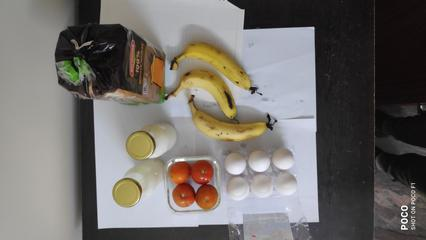banana: (177, 41, 273, 110), (189, 100, 294, 144)
bread: (55, 27, 169, 110)
eggs: (228, 149, 302, 195)
milk: (106, 171, 158, 208), (126, 130, 189, 158)
tomato: (167, 162, 220, 209)
